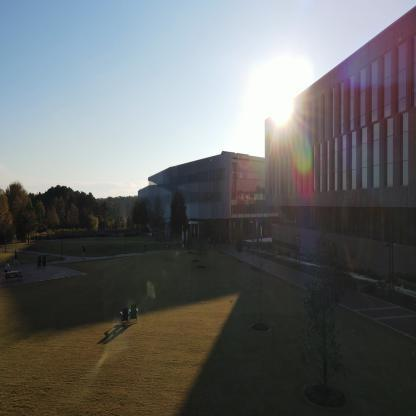Fitts- Woolard: (265, 1, 415, 331)
Hunt Library: (120, 141, 262, 265)
